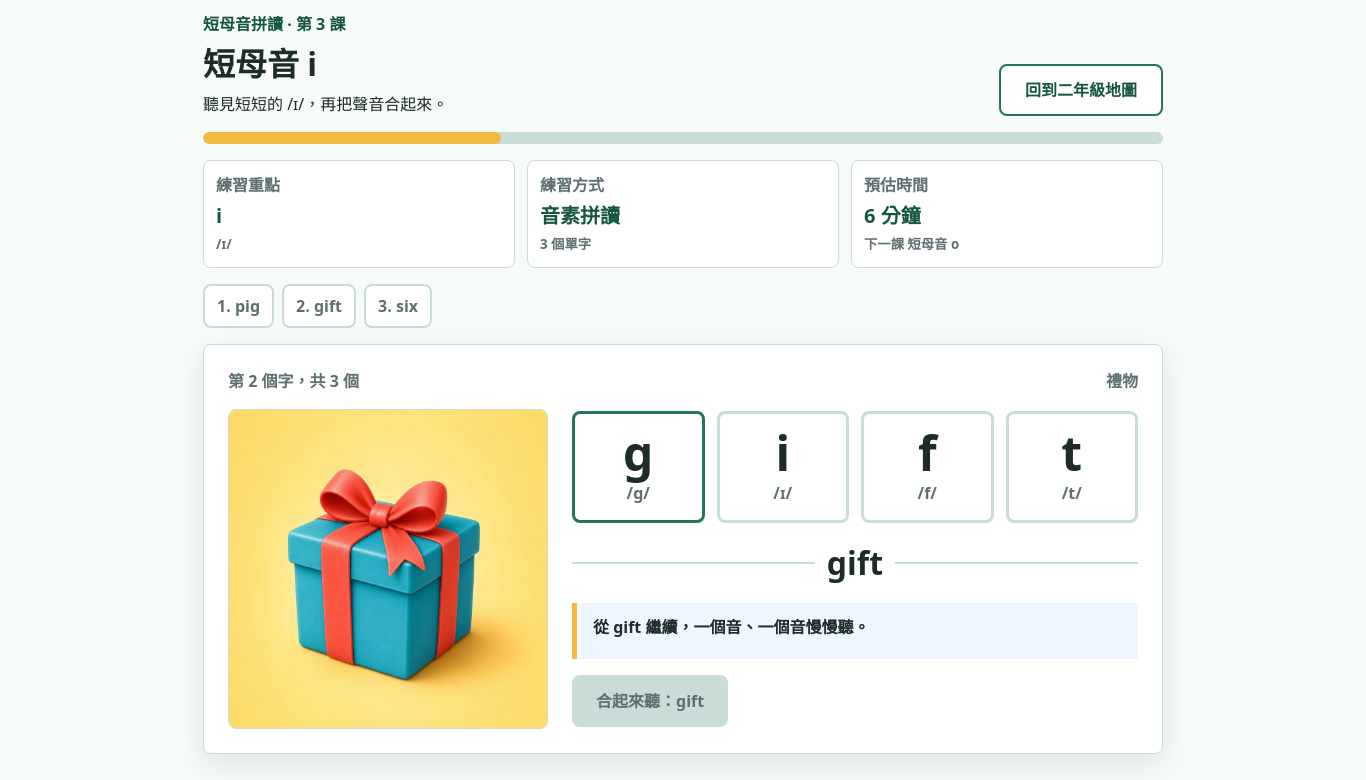
ShortVowelLessonPage › 依路由載入短母音 i，並正確處理 gift 的四個音段
The image size is (1366, 780).
Expected: the heading "短母音 i" is shown, top-left (203, 42), bottom-right (317, 85)
Expected: the text "gift" is shown, top-left (827, 539), bottom-right (883, 587)
Click the button named "播放 g 的聲音" at point(638, 467), box top-left (572, 411), bottom-right (704, 523)
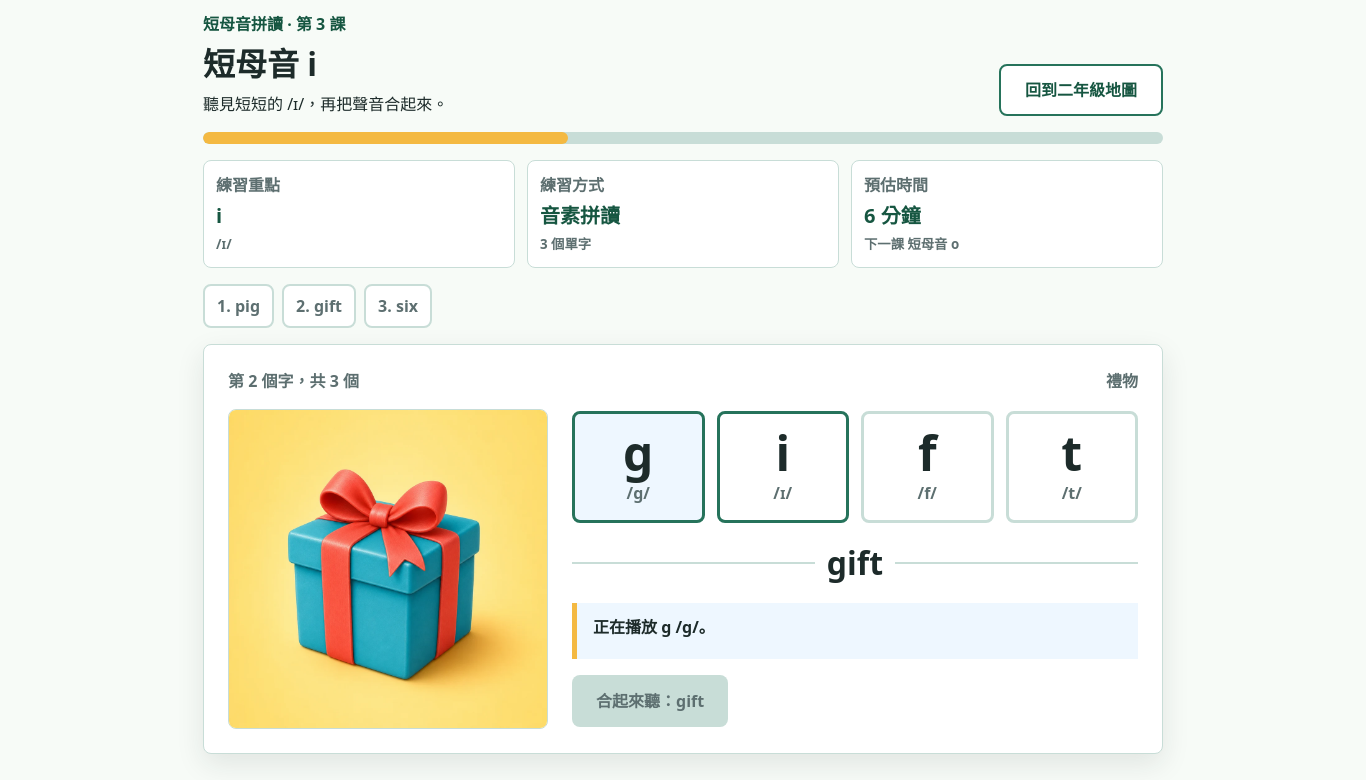
Click the button named "播放 i 的聲音" at point(783, 467), box top-left (716, 411), bottom-right (849, 523)
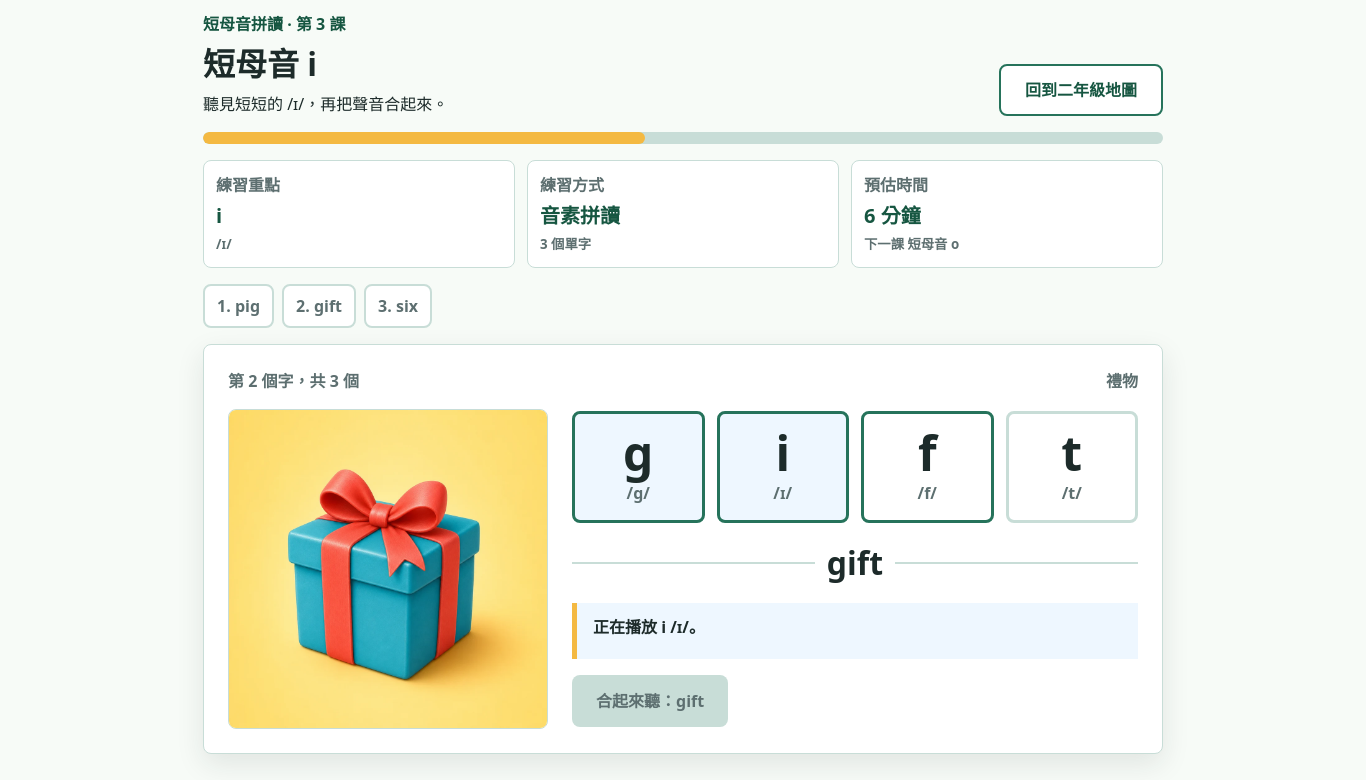
Click the button named "播放 f 的聲音" at point(927, 467), box top-left (861, 411), bottom-right (994, 523)
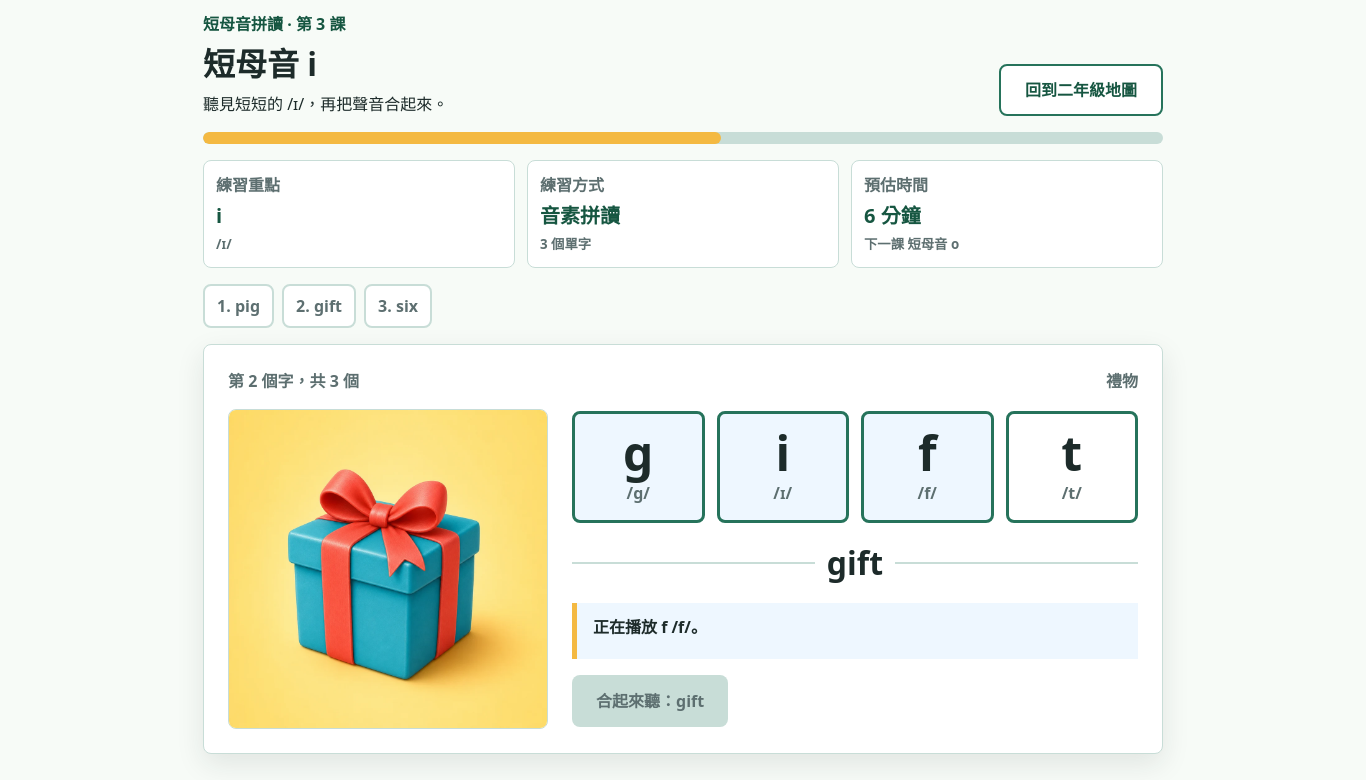
Expected: the button "合起來聽：gift" is disabled, top-left (572, 675), bottom-right (728, 727)
Now the button named "播放 t 的聲音" is enabled
Click the button named "播放 t 的聲音" at point(1072, 467), box top-left (1006, 411), bottom-right (1138, 523)
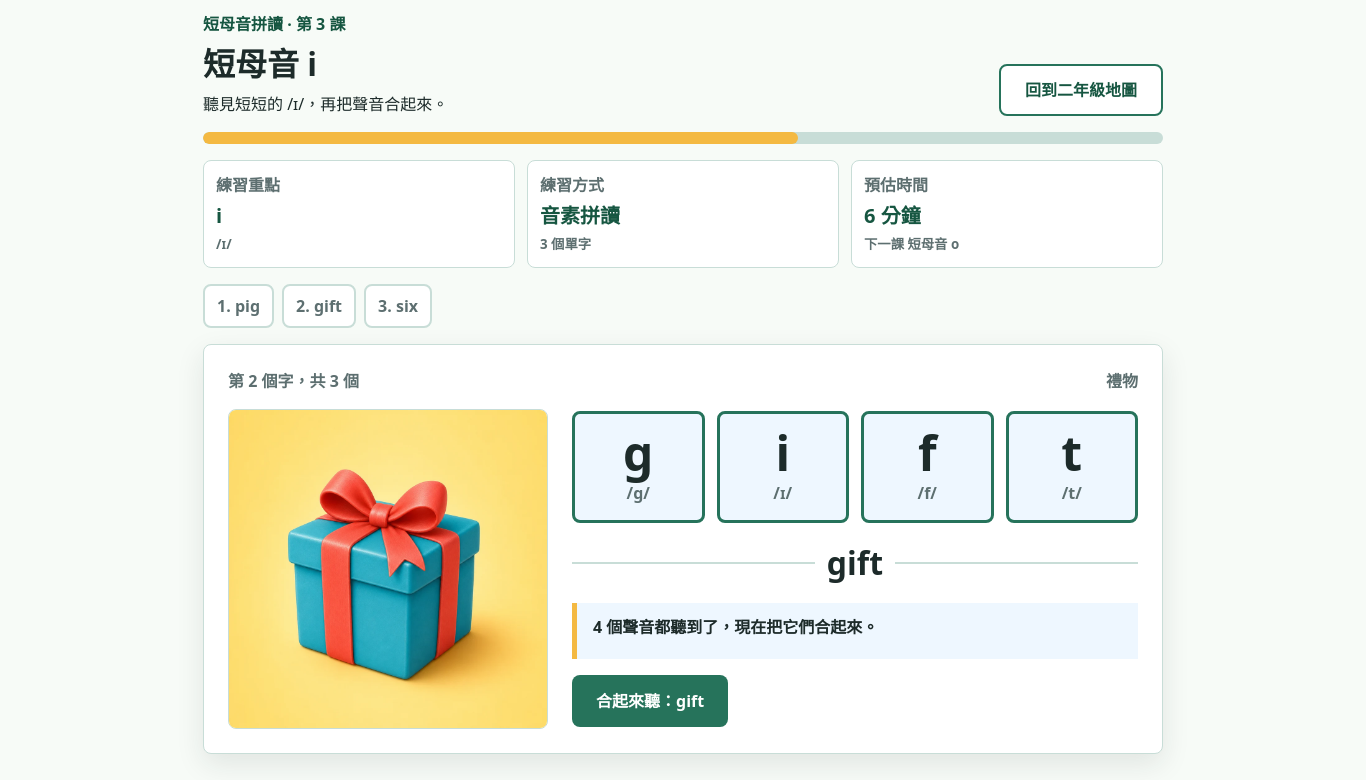
Now the button "合起來聽：gift" is enabled, box top-left (572, 675), bottom-right (728, 727)
